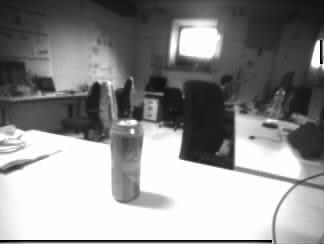Bottle: (272, 88, 283, 120)
Tin can: (109, 120, 142, 201)
